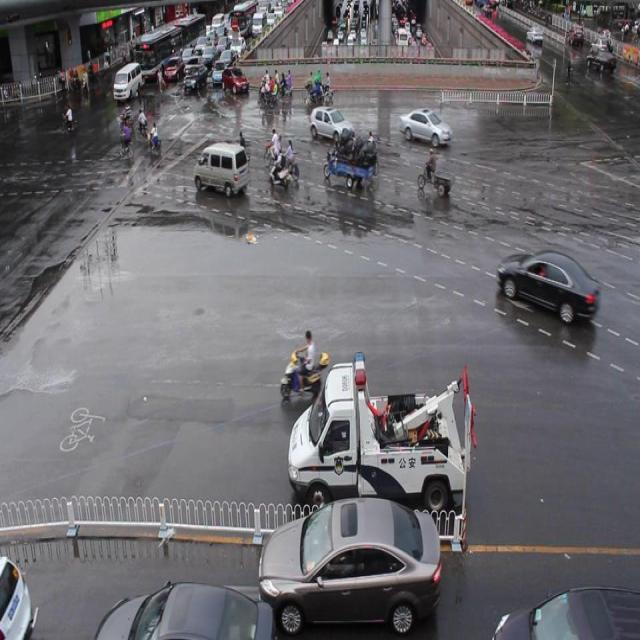bus: (287, 352, 473, 518)
car: (260, 495, 441, 634), (95, 578, 275, 640), (490, 583, 640, 640), (497, 248, 598, 322), (1, 553, 32, 640), (399, 107, 451, 149), (309, 106, 353, 142)
truck: (194, 142, 248, 197)
